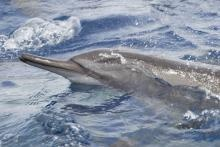fish: (18, 49, 220, 124)
